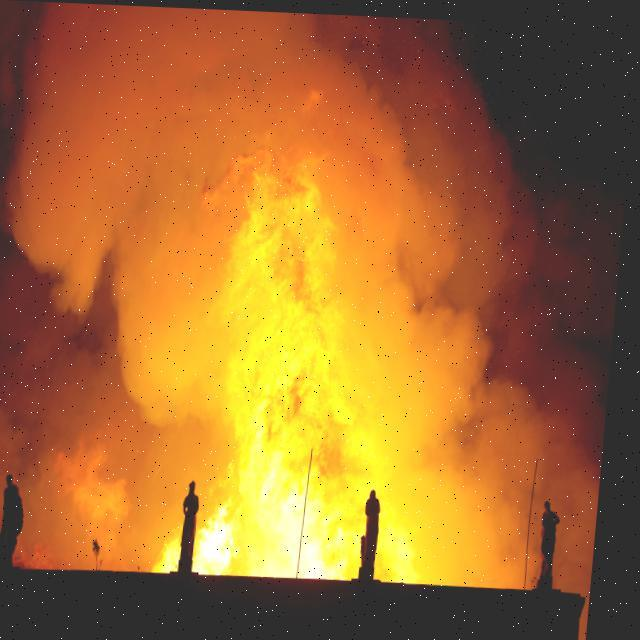Fire: (146, 107, 534, 583)
